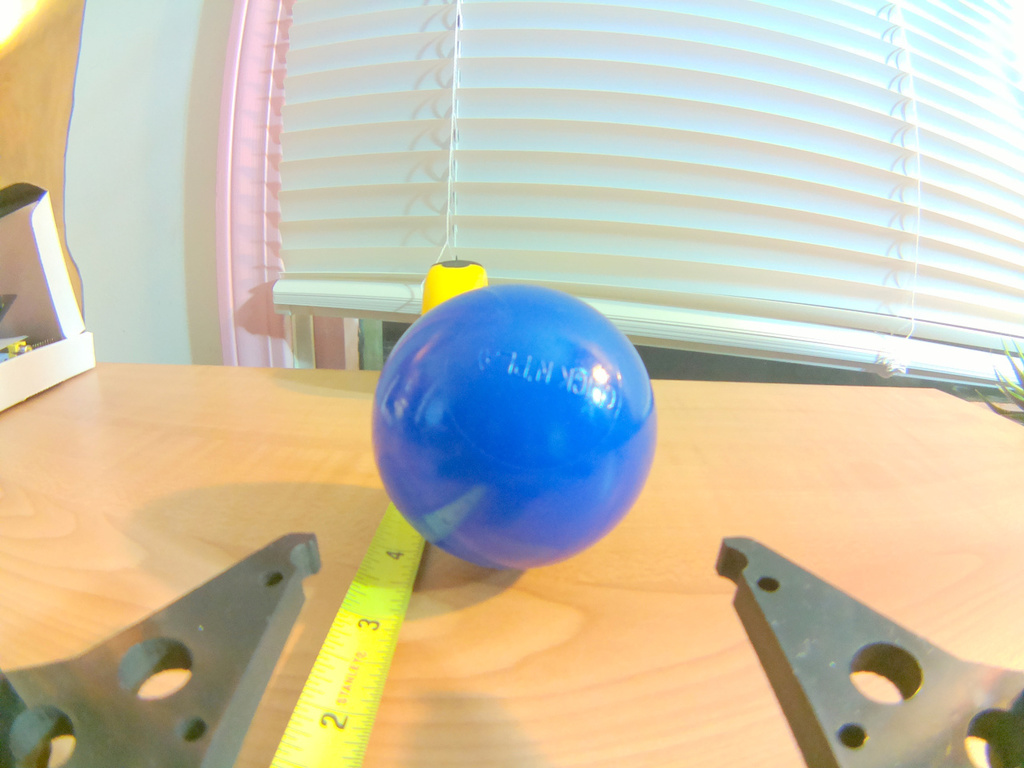ball: (369, 283, 660, 571)
